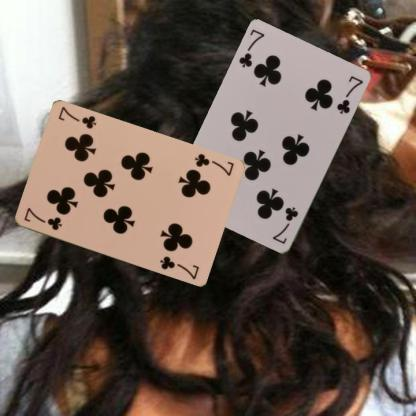7c: (236, 27, 266, 70), (270, 204, 300, 245), (191, 151, 235, 177), (21, 205, 63, 232)
